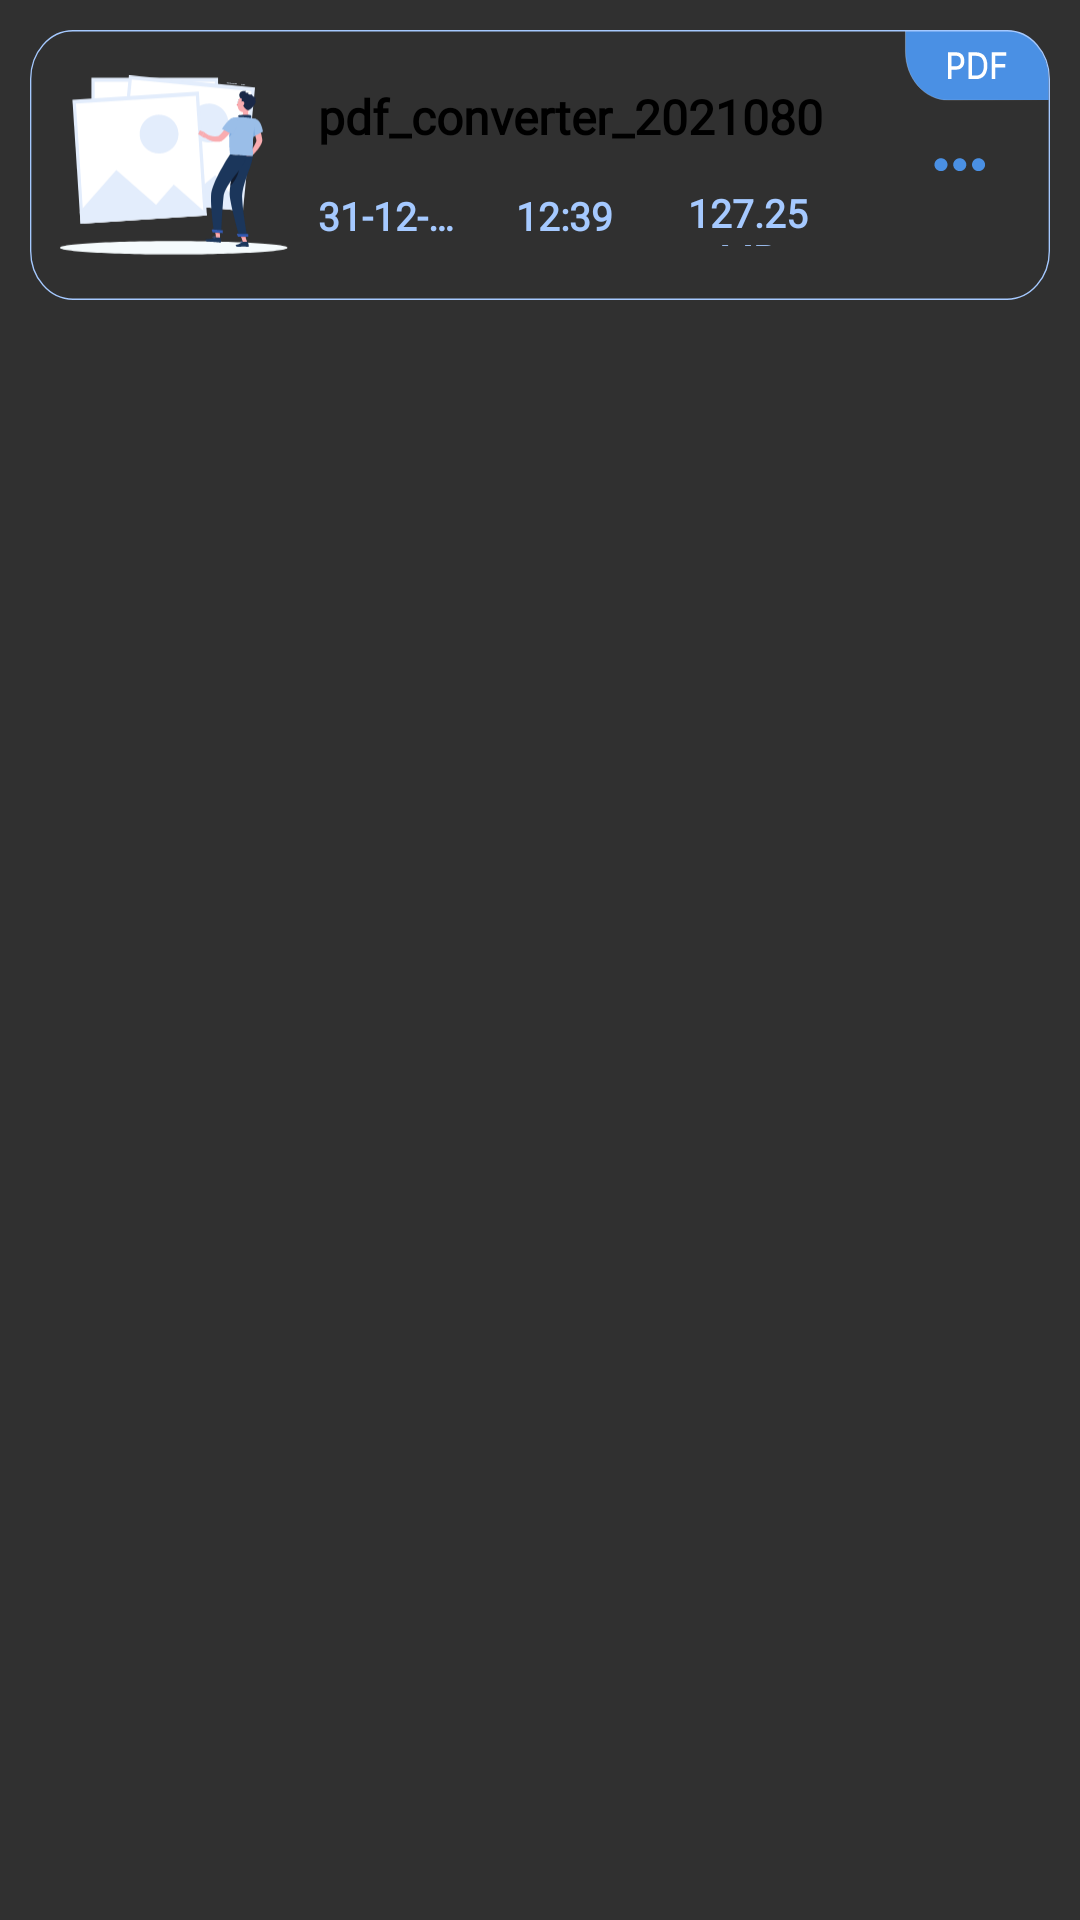

Named icons in this screenshot (1080 x 1920) and their centers, (x=x, y=y):
menu: (x=959, y=164)
